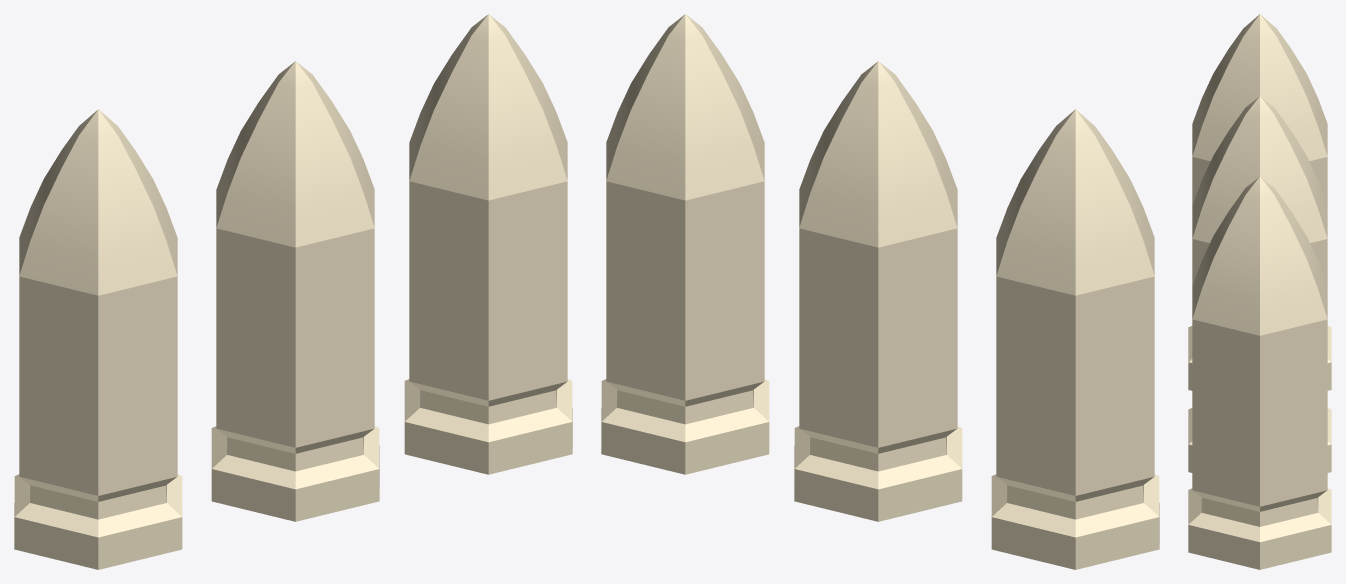
File: PowerUp_Ammo_low.fbx
3 renders of one model, left to right at view 1: azimuth 30°, elevation 25°; view 2: azimuth 150°, elevation 25°; view 3: azimuth 270°, elevation 25°, orthographic. The views are drawn at different scales.
Parts seen in each view (by area): view 1: PowerUp_Ammo_low; view 2: PowerUp_Ammo_low; view 3: PowerUp_Ammo_low.
Part boxes in pixels (box(x1,y1,x2,y2)): PowerUp_Ammo_low: box(14, 14, 572, 569); PowerUp_Ammo_low: box(601, 14, 1159, 569); PowerUp_Ammo_low: box(1188, 14, 1331, 569).
Size of the model in its own units: 43.92 by 31.57 by 11.44.
